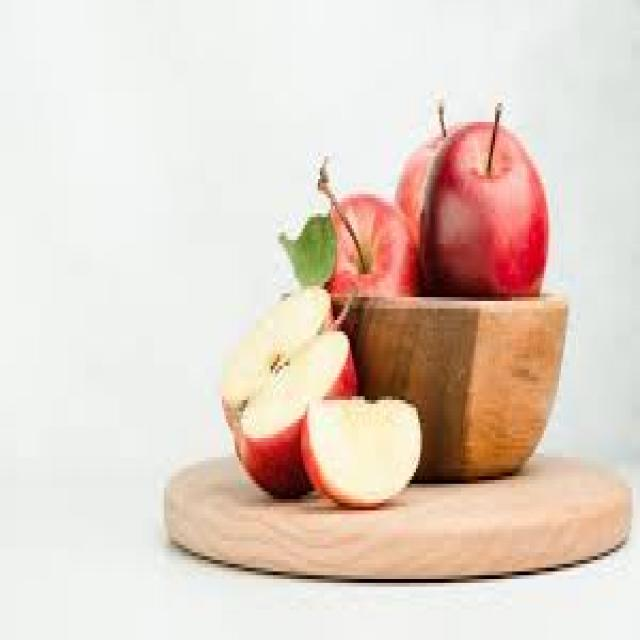Apple: (221, 287, 361, 481), (424, 126, 544, 298), (316, 172, 418, 297), (308, 402, 422, 506), (394, 126, 461, 226)
